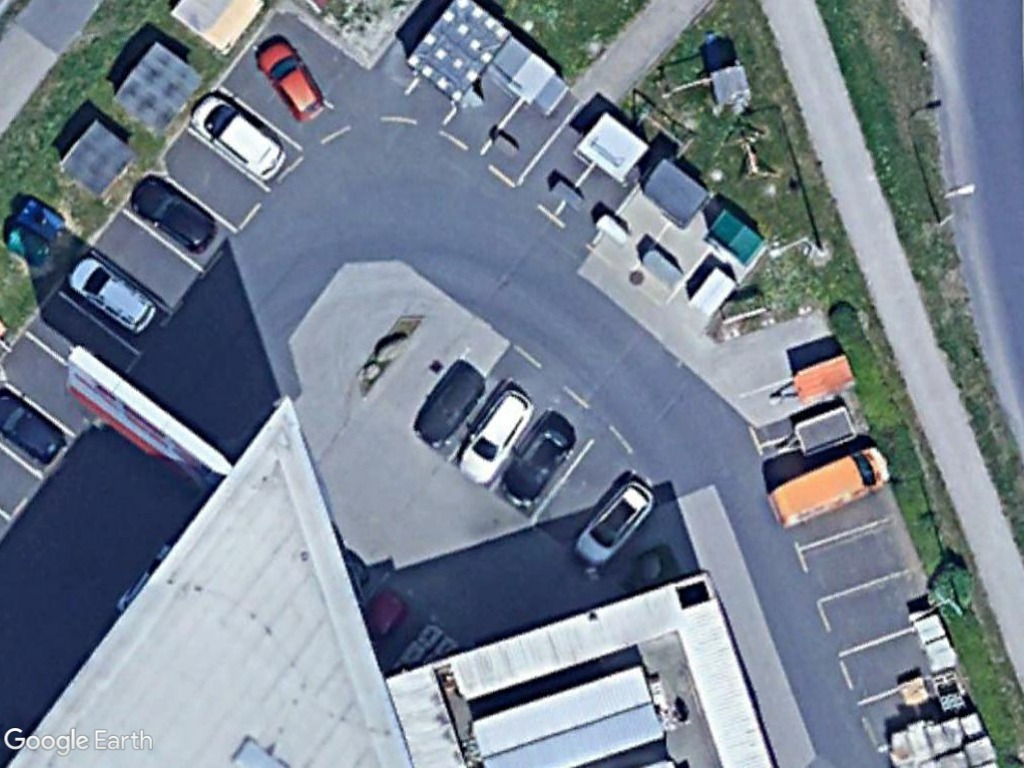car: (450, 385, 537, 486), (189, 94, 288, 181), (574, 474, 656, 566), (65, 256, 160, 334), (497, 416, 576, 509), (407, 362, 488, 452), (131, 175, 220, 256), (254, 40, 328, 125)
van: (759, 438, 892, 532)
